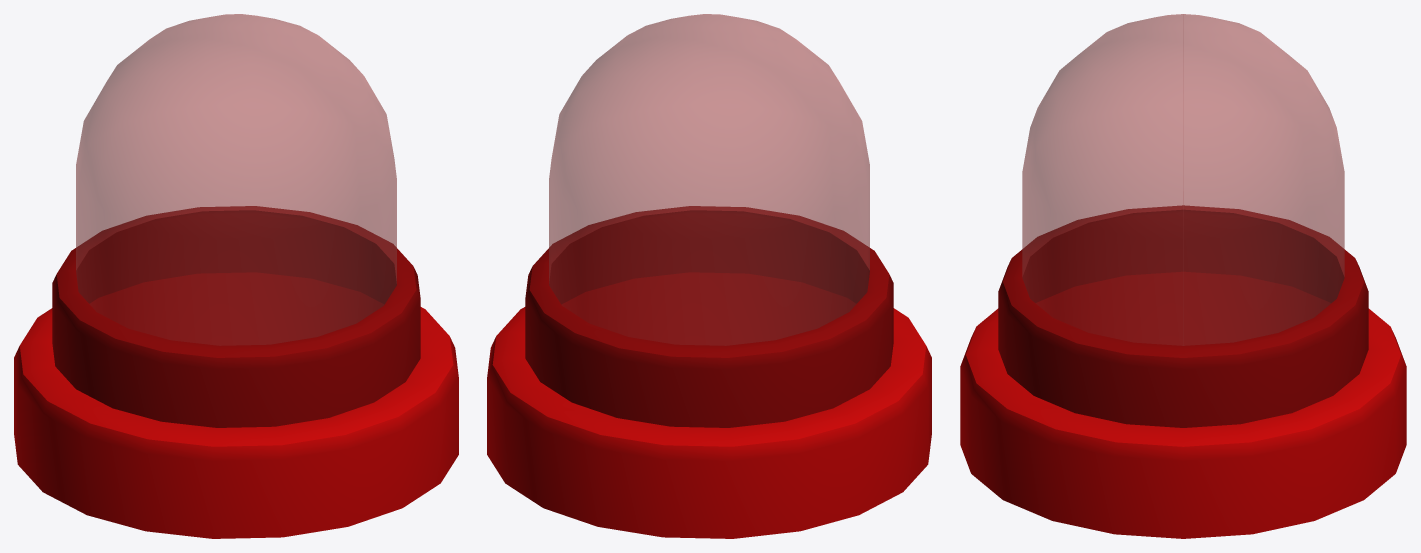
File: SM_Alarm.fbx
3 renders of one model, left to right at view 1: azimuth 30°, elevation 25°; view 2: azimuth 150°, elevation 25°; view 3: azimuth 270°, elevation 25°, orthographic.
Visible parts, largest first — view 1: Glass, Bottom, Middle; view 2: Glass, Bottom, Middle; view 3: Glass, Bottom, Middle.
Boxes of the visible parts, left/top/right/bottom form: Glass: left=76, top=14, right=396, bottom=345; Bottom: left=14, top=272, right=458, bottom=538; Middle: left=52, top=206, right=420, bottom=427; Glass: left=549, top=14, right=869, bottom=345; Bottom: left=487, top=272, right=931, bottom=538; Middle: left=525, top=206, right=893, bottom=427; Glass: left=1022, top=14, right=1344, bottom=345; Bottom: left=960, top=271, right=1406, bottom=538; Middle: left=998, top=205, right=1368, bottom=427.
Size of the model in its own units: 4.75 by 4.89 by 4.75.
